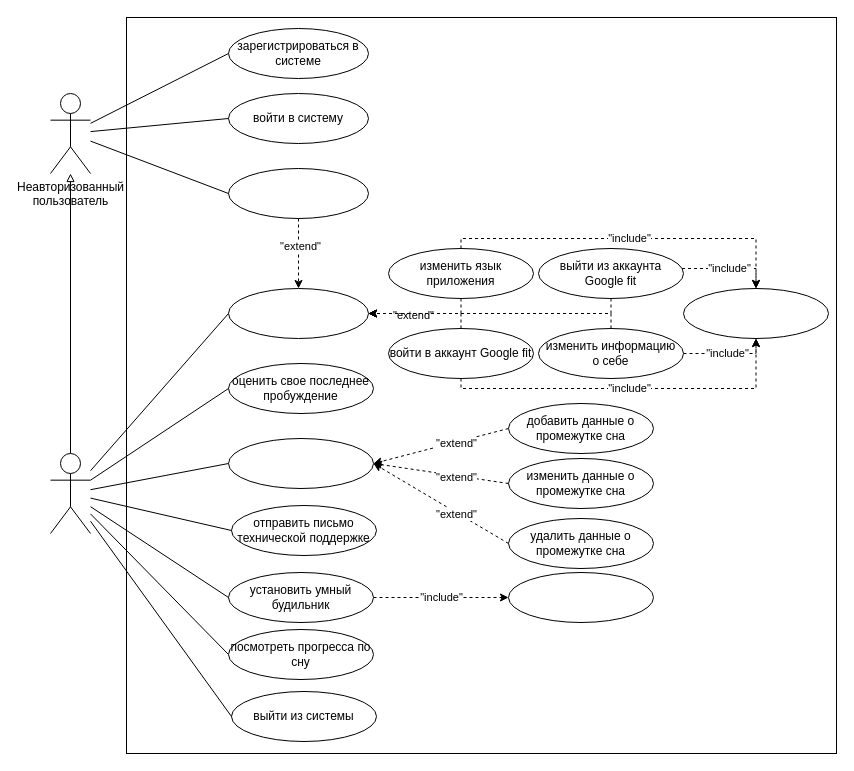
This 854x771 diagram has some shape labels left out. Here are the shapes that lost their labels. From the top down, the box of each, then its label:
(228, 168, 368, 218): сбросить пароль
(228, 288, 368, 338): изменить данные аккаунта
(682, 288, 828, 338): сохранение информации
(228, 438, 374, 488): посмотреть данные о промежутках сна
(50, 452, 90, 534): Авторизованный пользователь
(508, 572, 654, 622): повторная проверка подъема пользователя
